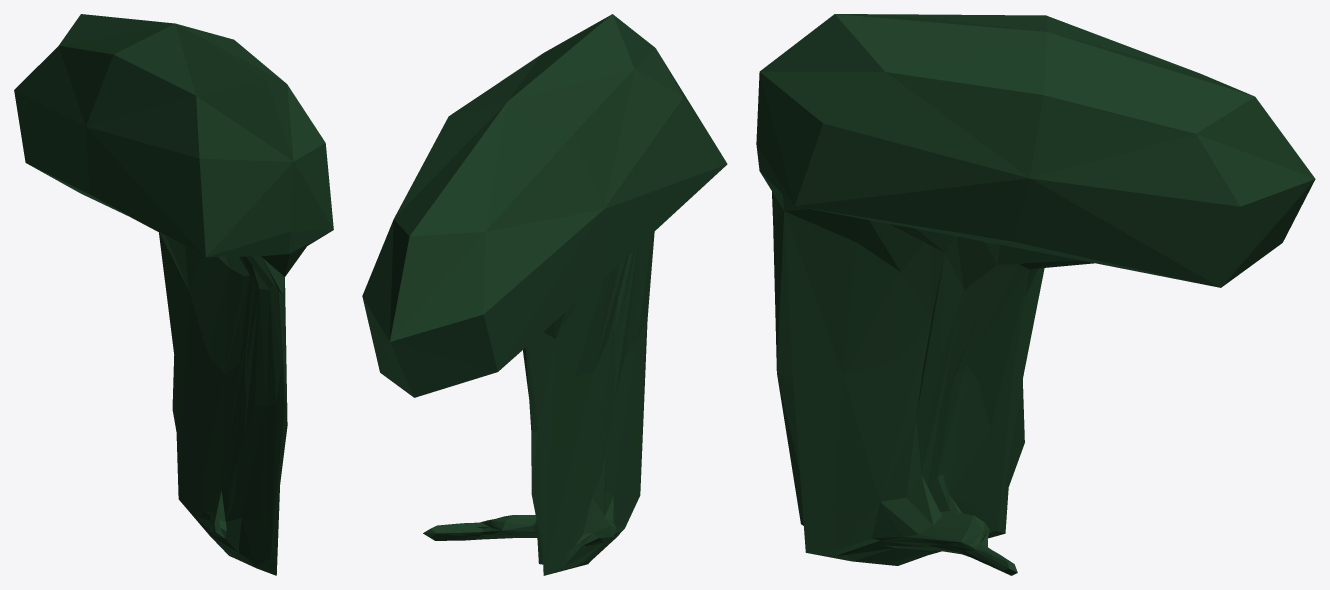
The picture shows the model from 3 angles, left to right: view 1: azimuth 30°, elevation 25°; view 2: azimuth 150°, elevation 25°; view 3: azimuth 270°, elevation 25°; orthographic projection. The views are drawn at different scales.
Parts seen in each view (by area): view 1: 506_Cube.2046; view 2: 506_Cube.2046; view 3: 506_Cube.2046.
Boxes of the visible parts, bbox=[...] form: 506_Cube.2046: bbox=[14, 14, 333, 575]; 506_Cube.2046: bbox=[362, 14, 727, 575]; 506_Cube.2046: bbox=[756, 14, 1315, 575].
Size of the model in its own units: 5.02 by 13.01 by 11.9.
